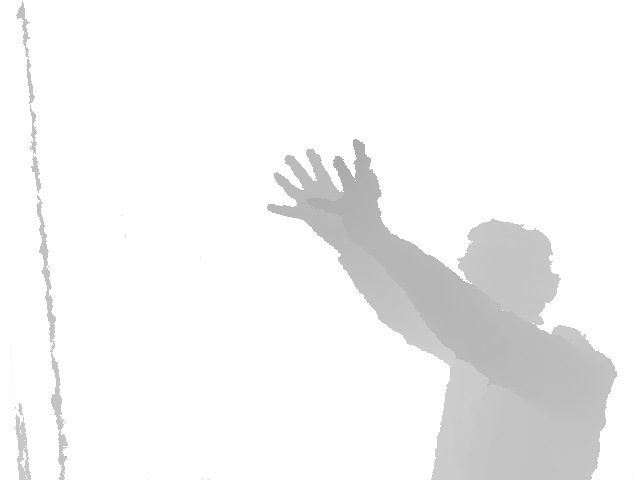hand: (267, 148, 355, 249), (308, 139, 382, 248)
head: (456, 218, 561, 343)
person: (267, 139, 618, 480)
